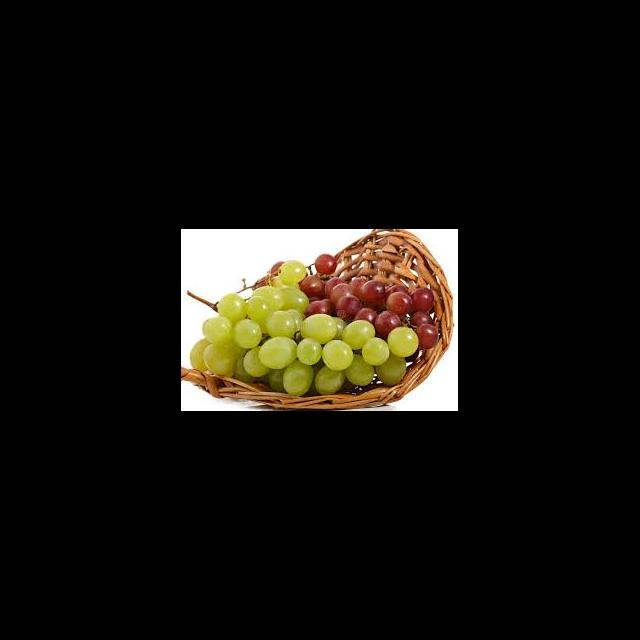grape: (188, 254, 440, 396)
